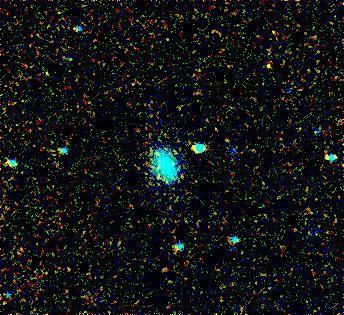star: (256, 17, 286, 47)
